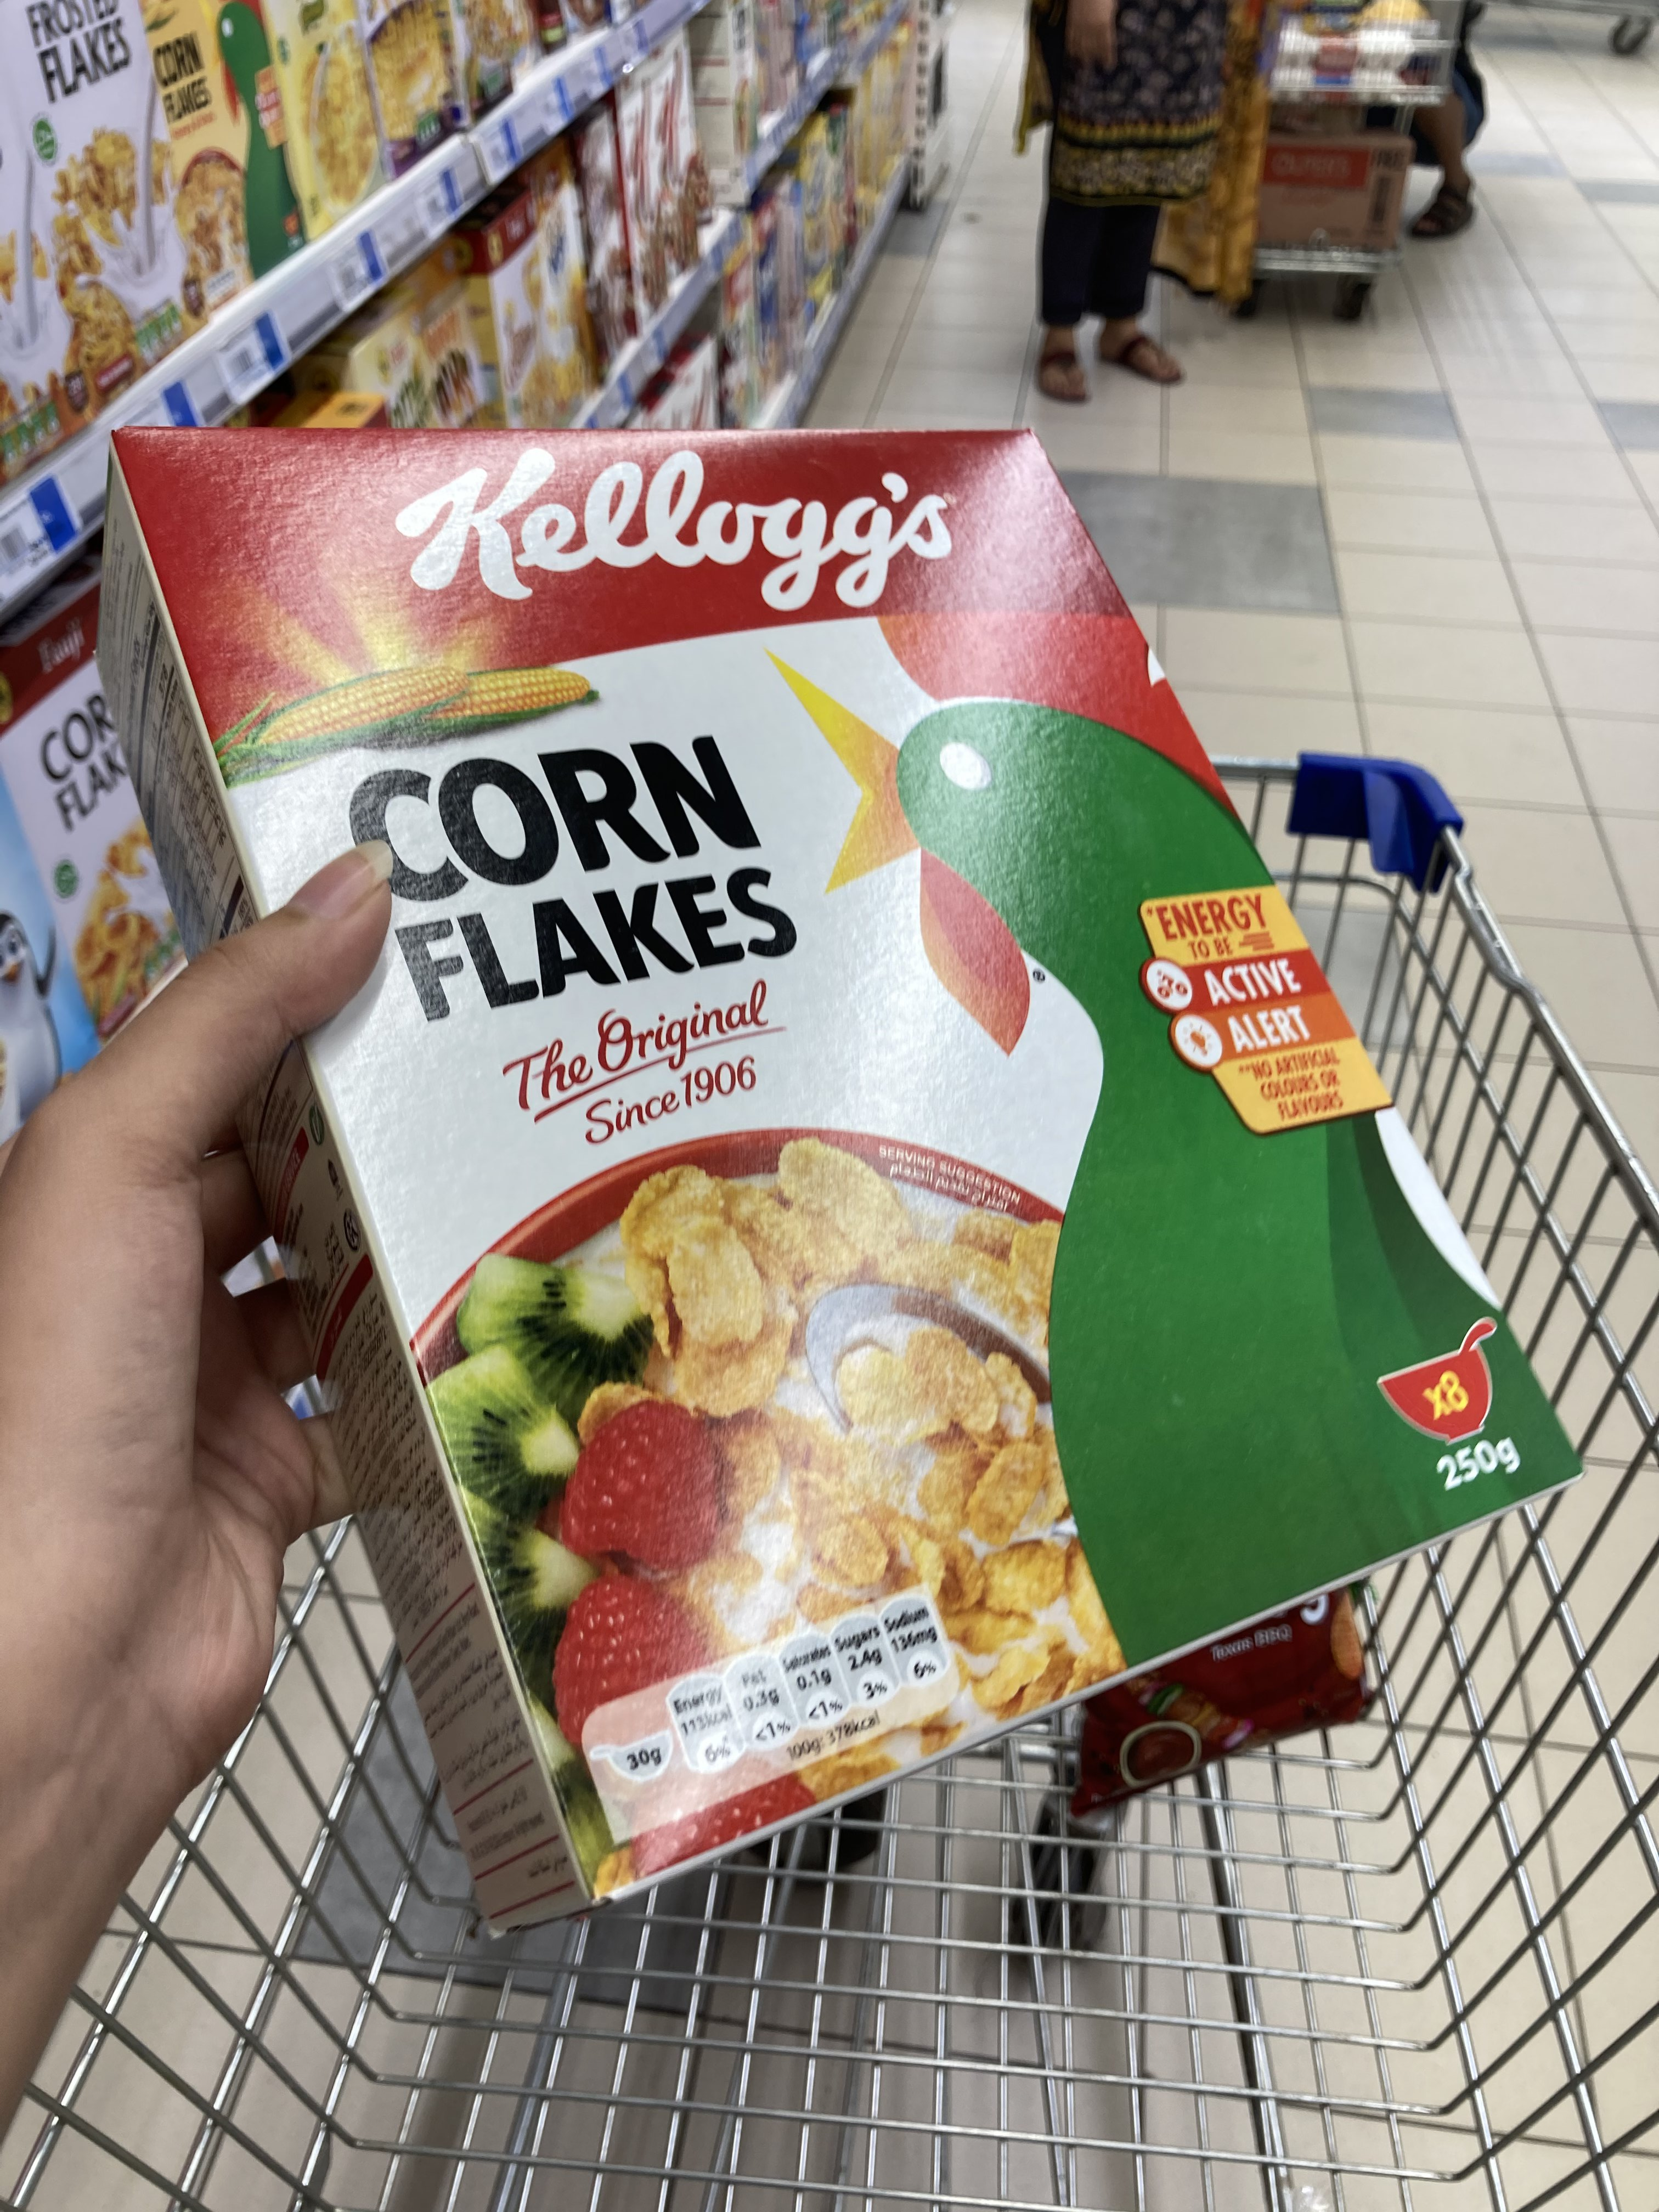Kellogg's Corn Flakes: (98, 423, 1589, 1928)
